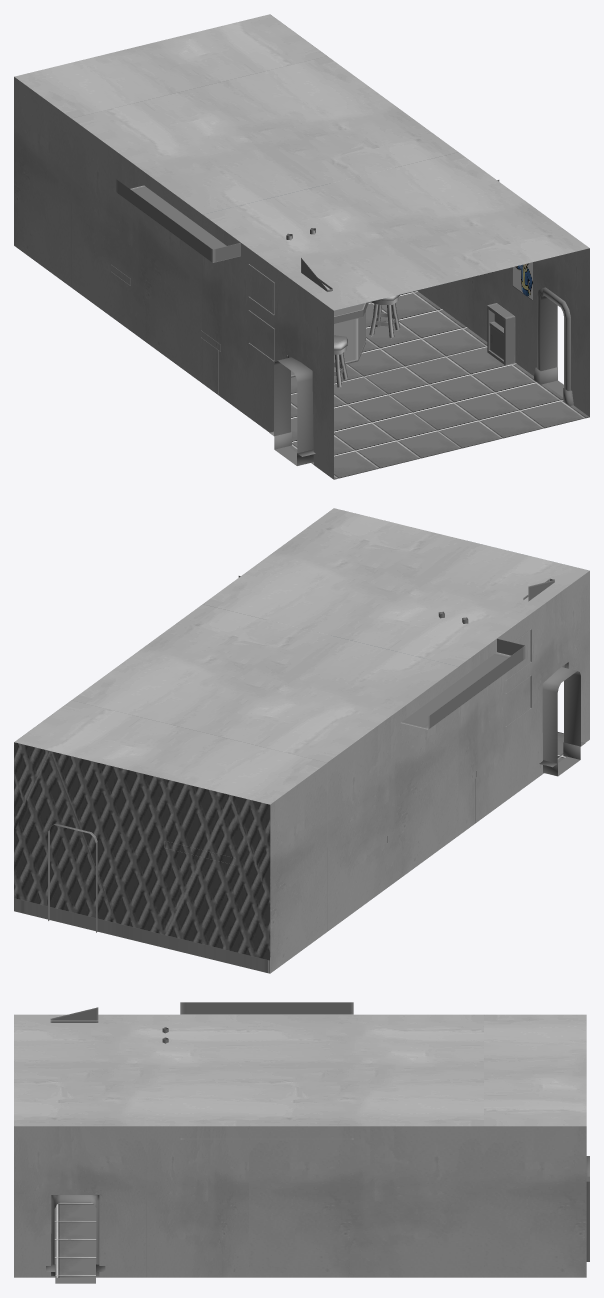
Rendered from MSH_Bar_room_L2_R1_optimized.fbx.
3 renders of one model, top to bottom at view 1: azimuth 30°, elevation 25°; view 2: azimuth 150°, elevation 25°; view 3: azimuth 270°, elevation 25°, orthographic. The views are drawn at different scales.
Parts seen in each view (by area): view 1: lightmap2, lightmap0; view 2: lightmap2, lightmap0; view 3: lightmap2, lightmap0.
Part boxes in pixels (x1,y1,x2,y2): lightmap2: (14,14,589,479); lightmap0: (112,179,563,465); lightmap2: (14,508,589,973); lightmap0: (48,576,580,932); lightmap2: (14,1007,586,1277); lightmap0: (54,1002,589,1283).
Size of the model in its own units: 10.82 by 6.39 by 20.24.
